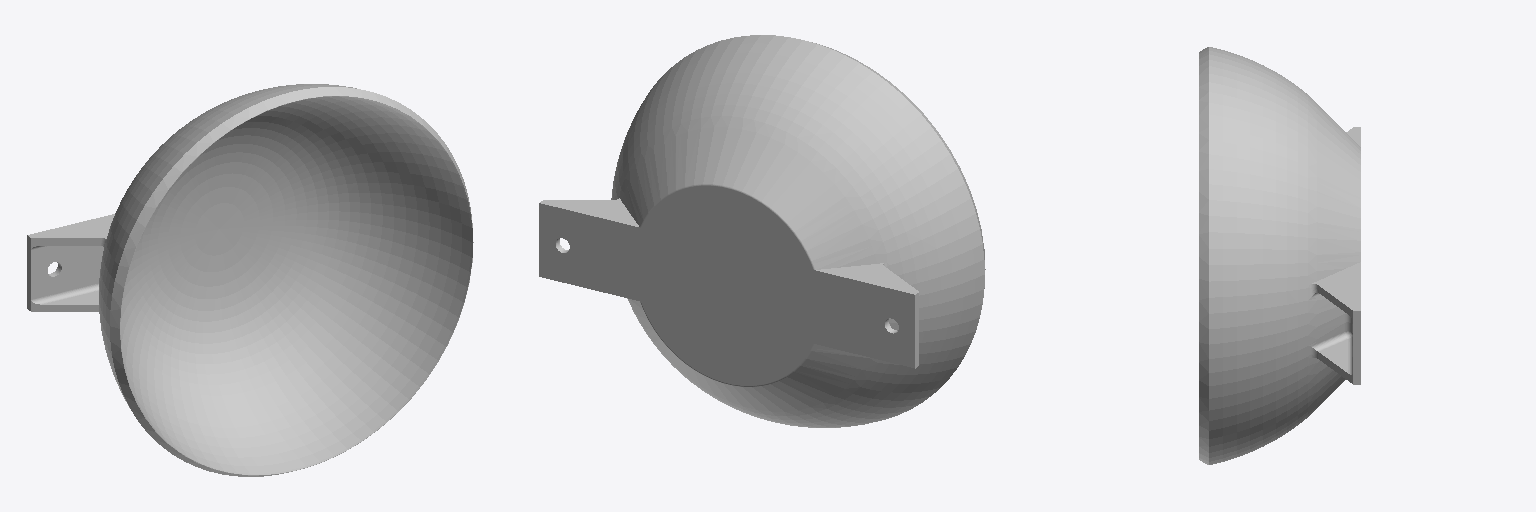
File: s_bowl.obj
3 views of the same model, side by side, from view 1: azimuth 30°, elevation 25°; view 2: azimuth 150°, elevation 25°; view 3: azimuth 270°, elevation 25° (orthographic).
Visible parts, largest first — view 1: mesh9; view 2: mesh9; view 3: mesh9.
Boxes of the visible parts, x1=… form: mesh9: x1=27, y1=84, x2=473, y2=476; mesh9: x1=539, y1=35, x2=985, y2=427; mesh9: x1=1199, y1=47, x2=1360, y2=464.
Size of the model in its own units: 0.176 by 0.1699 by 0.066.